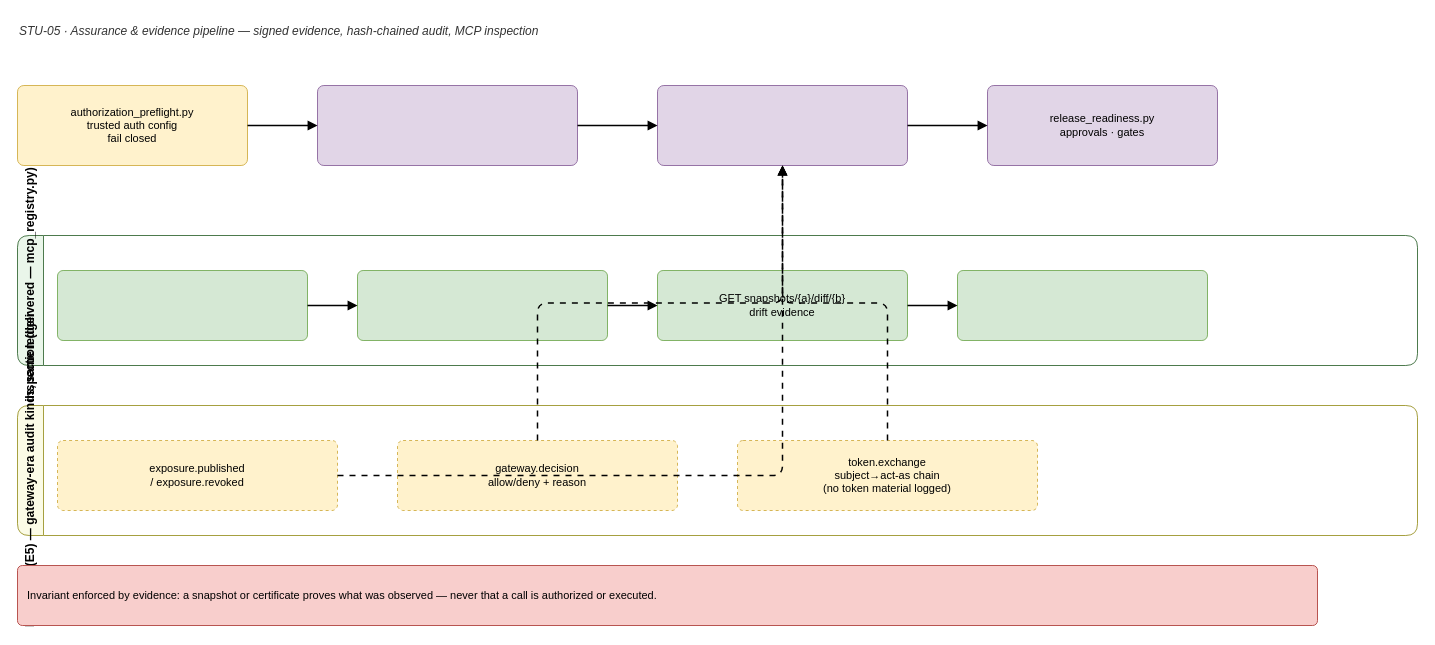
Some shapes in this 1435 by 645 pixel diagram are drawn without their labels. The centre of each missing label's shape, as x and y in pixels:
"assurance_evidence.py TAAS_EVIDENCE_ATTESTATION_KEY signed bundles · freshness" belongs at (447,125).
"audit event (inspection only)" belongs at (1082,305).
"audit_ledger.py hash chain · /audit/verify payload.request_id" belongs at (782,125).
"POST /mcp/registry/ snapshots/inspect" belongs at (182,305).
"snapshot persisted (tools/list result)" belongs at (482,305).
